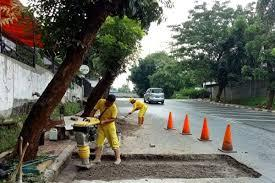Pothole: (37, 142, 275, 183)
